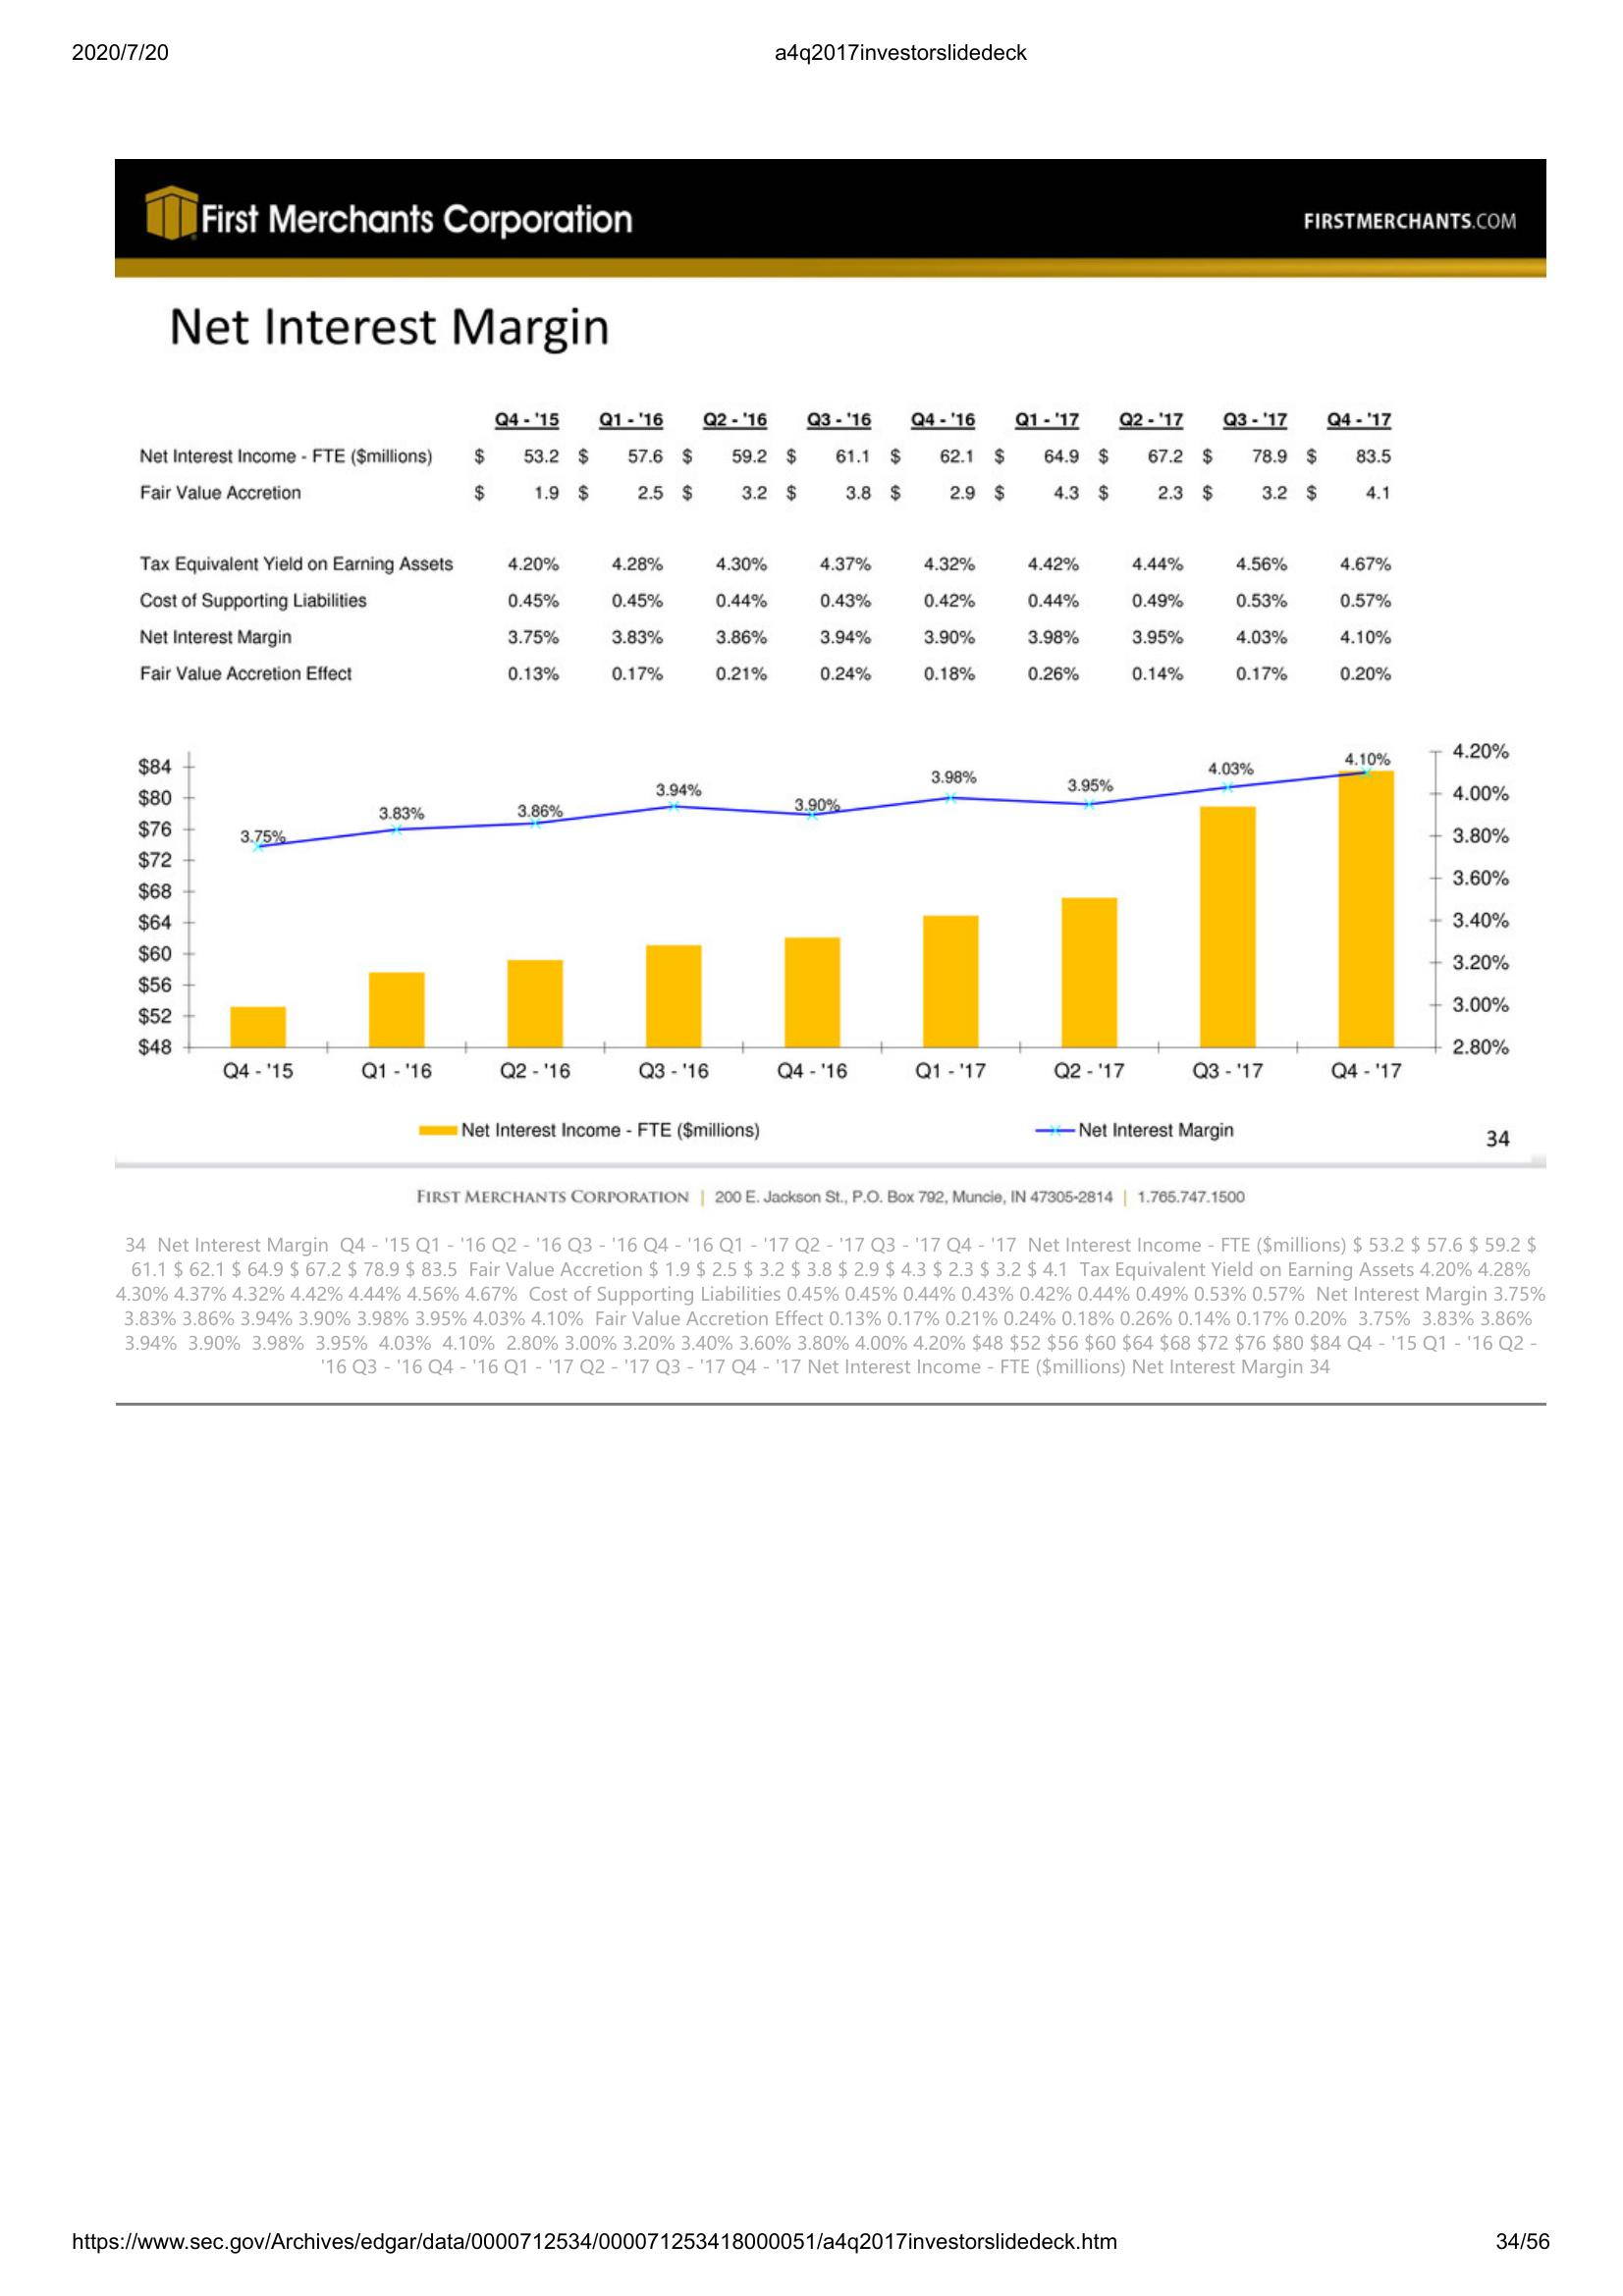table: (128, 405, 1419, 693)
